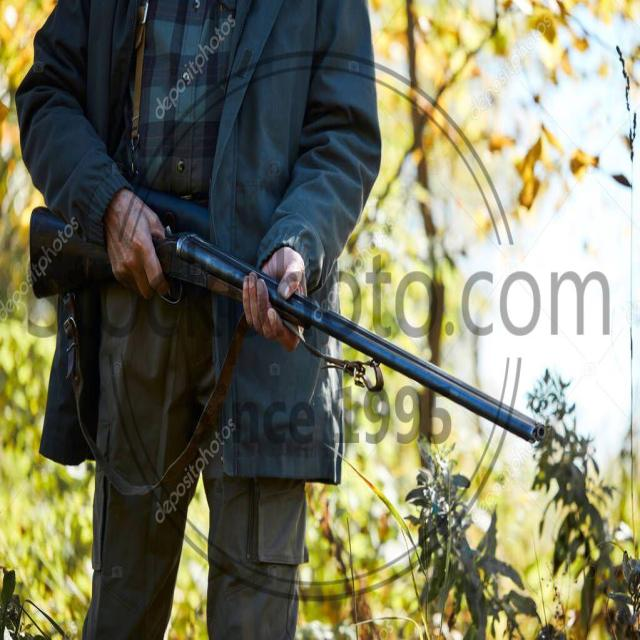ShotGun: (29, 207, 545, 443)
